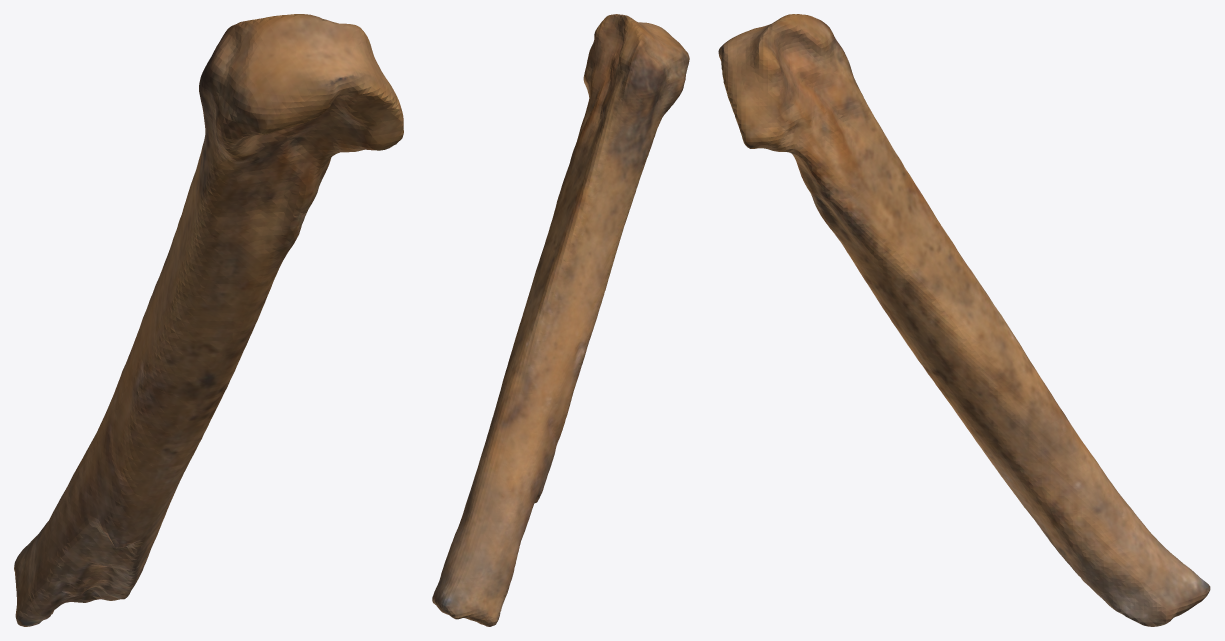
File: MB CAN 3 MT.obj
3 views of the same model, side by side, from view 1: azimuth 30°, elevation 25°; view 2: azimuth 150°, elevation 25°; view 3: azimuth 270°, elevation 25° (orthographic). The views are drawn at different scales.
Size of the model in its own units: 9.73 by 44.67 by 33.37.
Materials: 1 (1 with a texture image).
